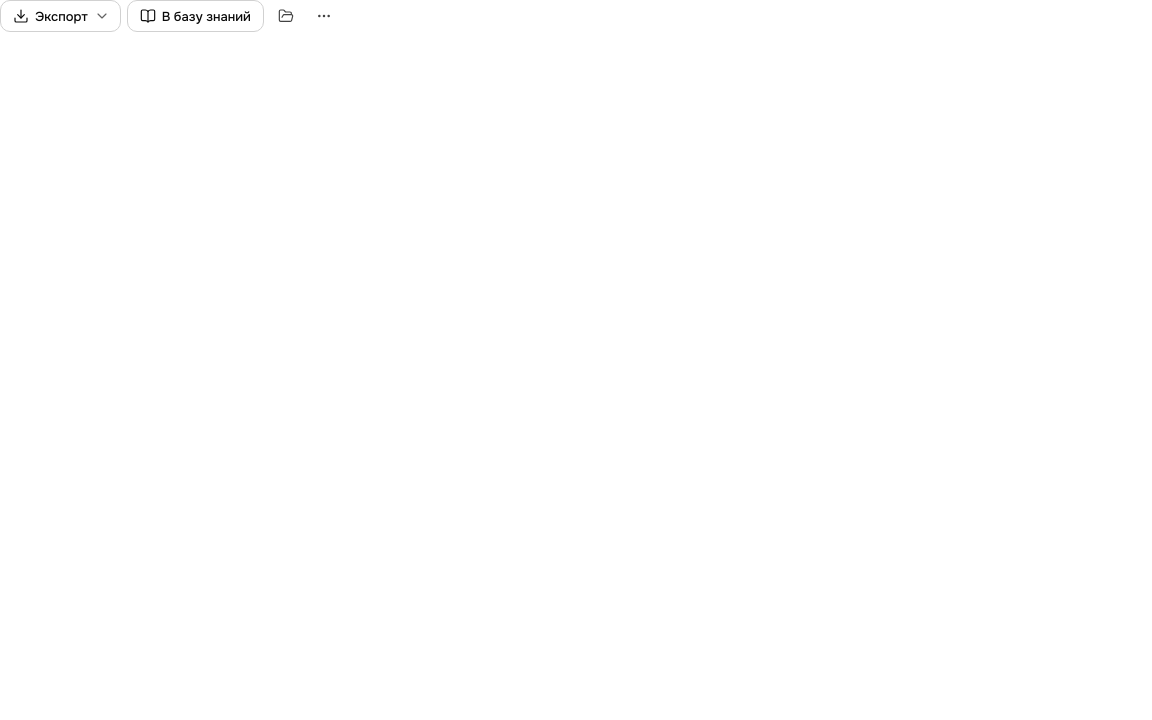
Test case: «Удалить…» спрашивает подтверждение общим окном
Click the button named "Ещё действия" at [324, 16], box [308,0,340,32]
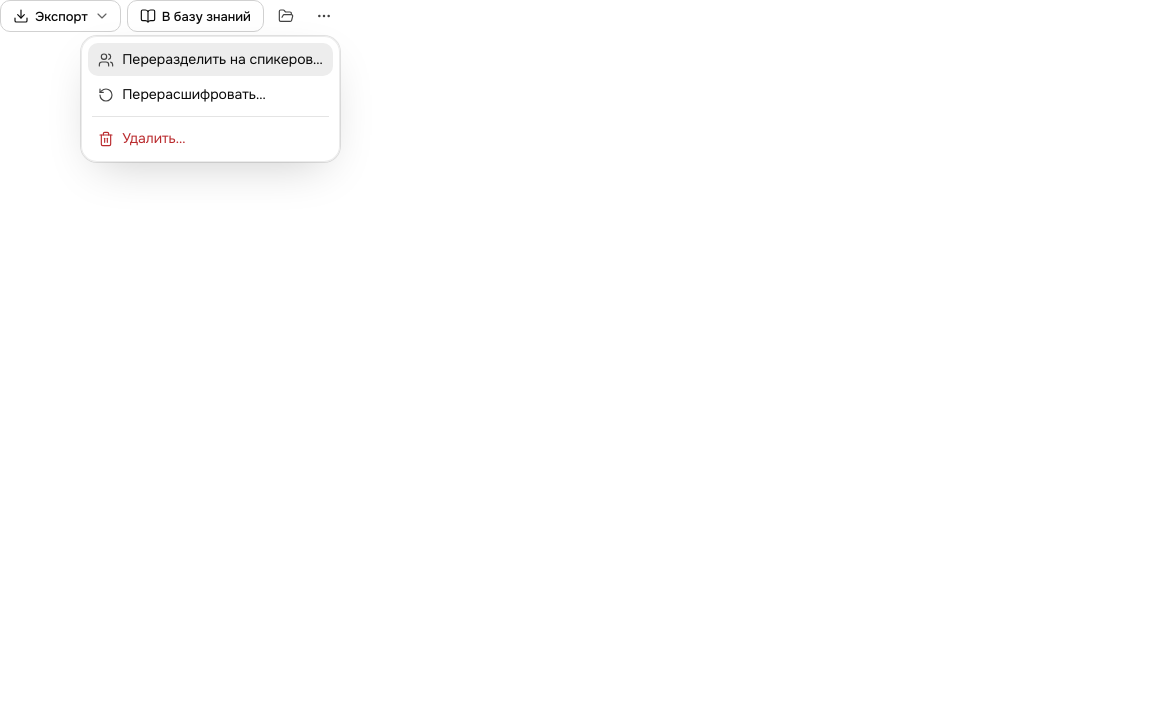
Click the menu item "Удалить…" at [210, 138], box [88,122,333,155]
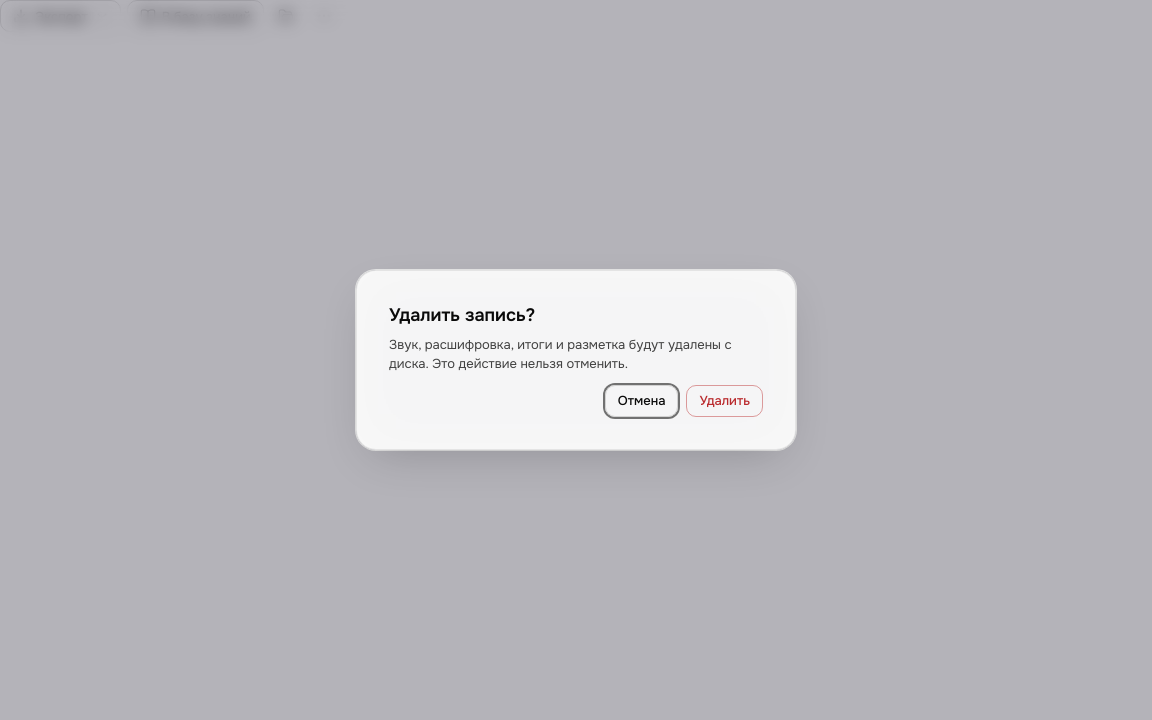
Check: the menu is gone
Press Escape
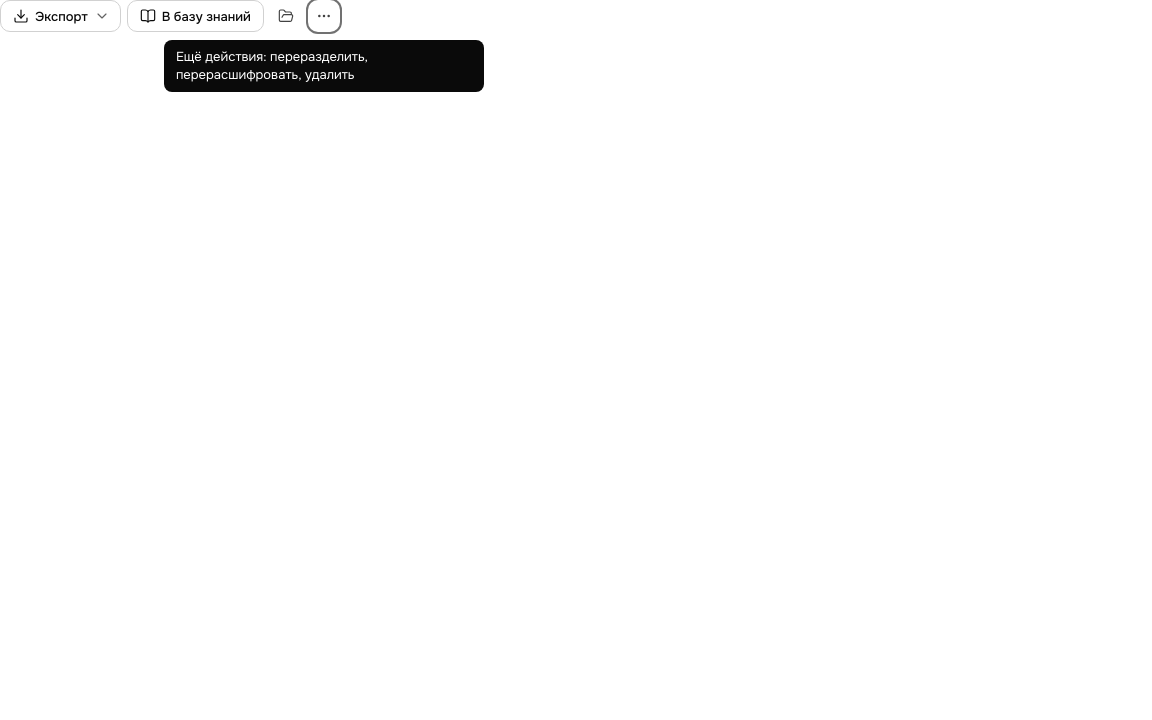
Check: the dialog is gone
Click the button named "Ещё действия" at [324, 16], box [308,0,340,32]
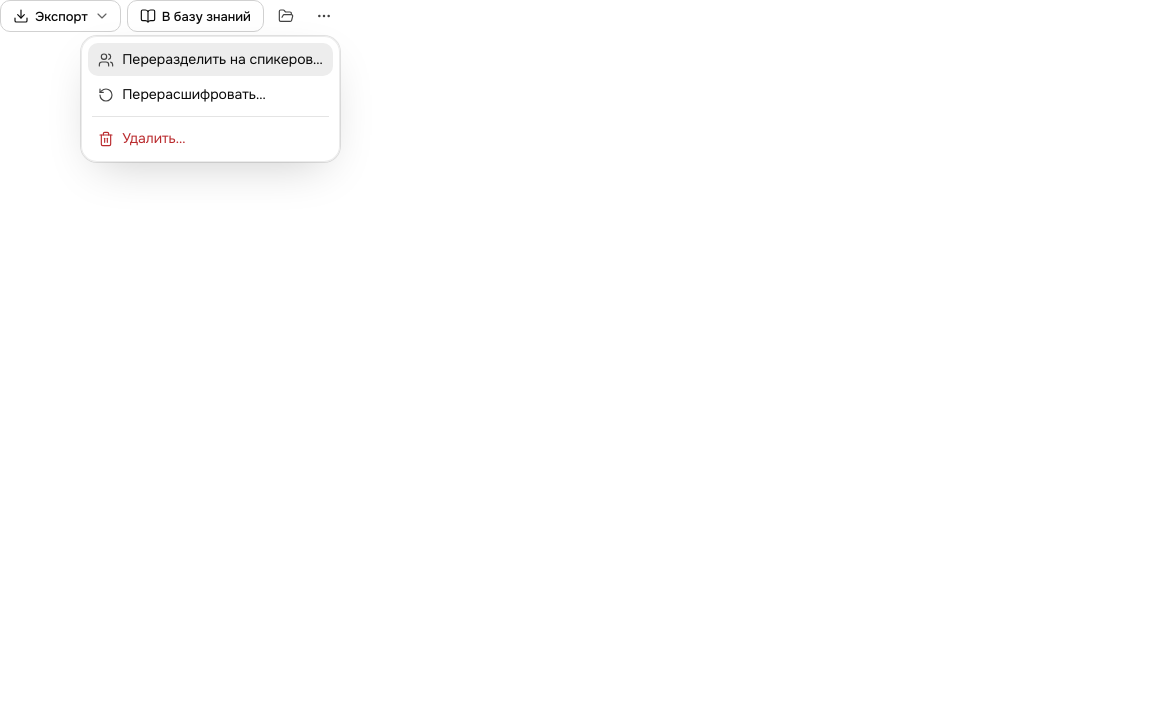
Click the menu item "Удалить…" at [210, 138], box [88,122,333,155]
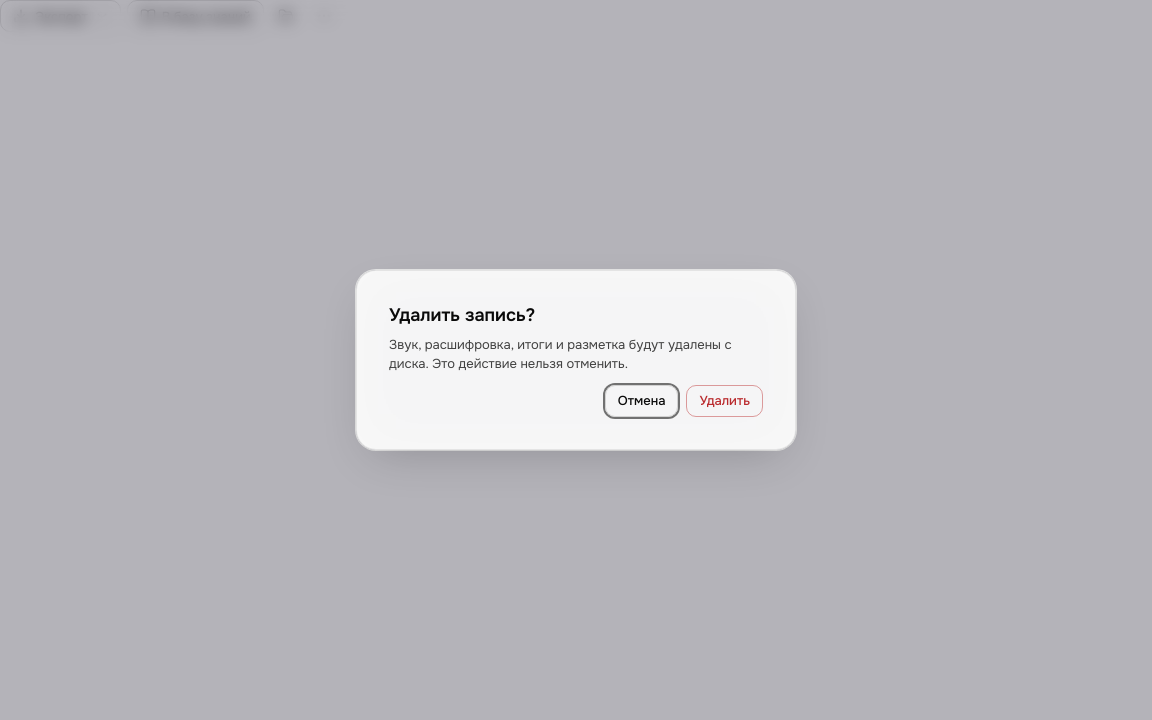
Click the button "Удалить" at [725, 401], box [686,385,763,417]
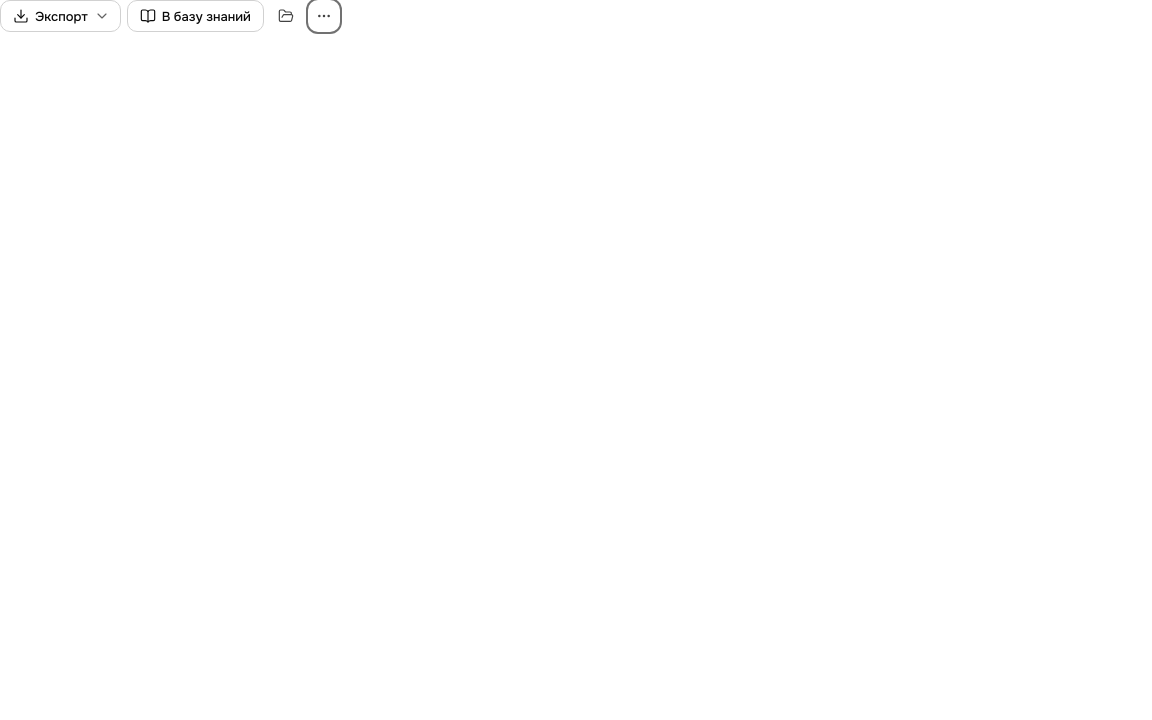
Check: the dialog is gone
